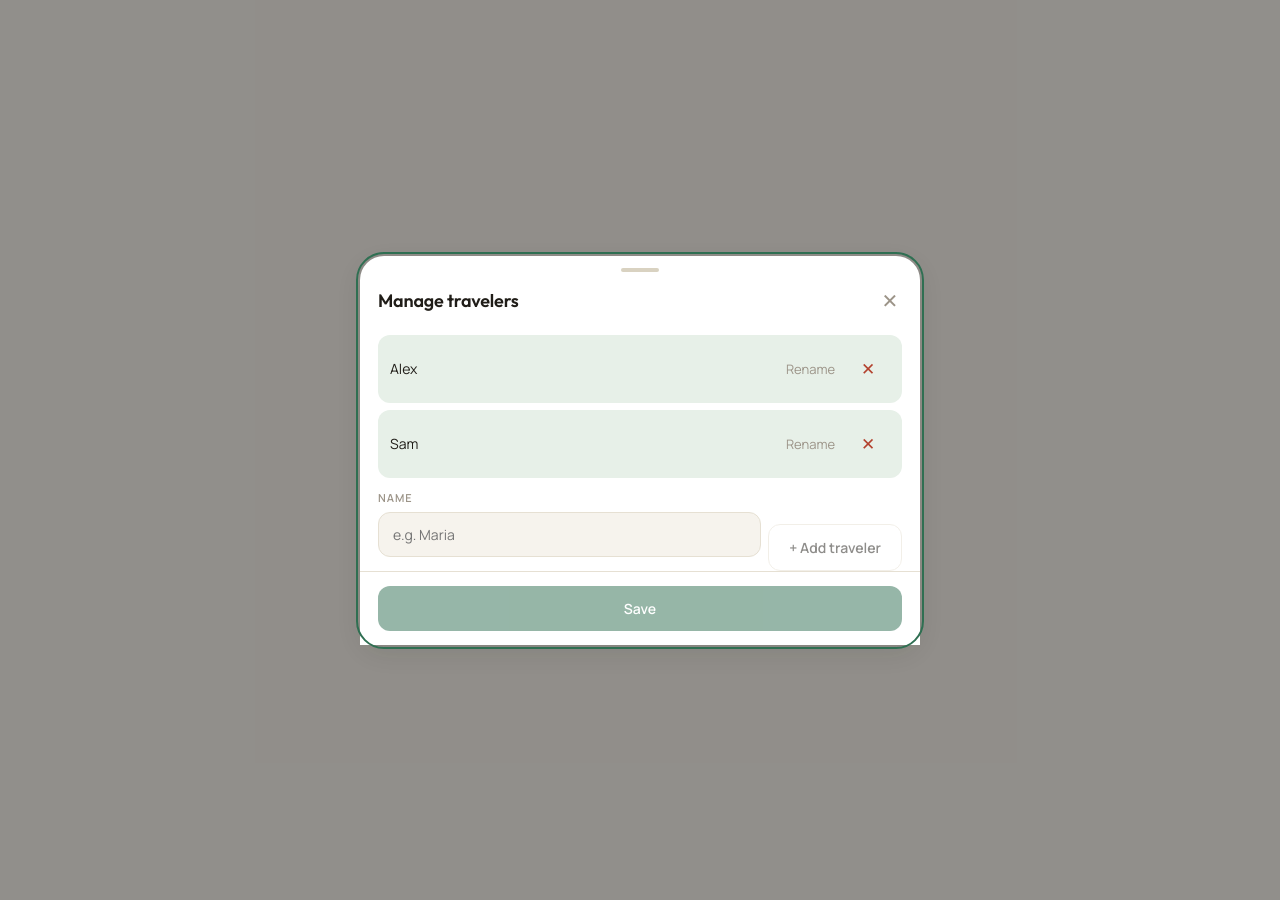
Scenario: ManageTravelersSheet › a newly added (unsaved) traveler can be removed instantly, no confirmation needed
Type "Maria" into the field labelled "Name" at (570, 534), box [378,512,761,556]
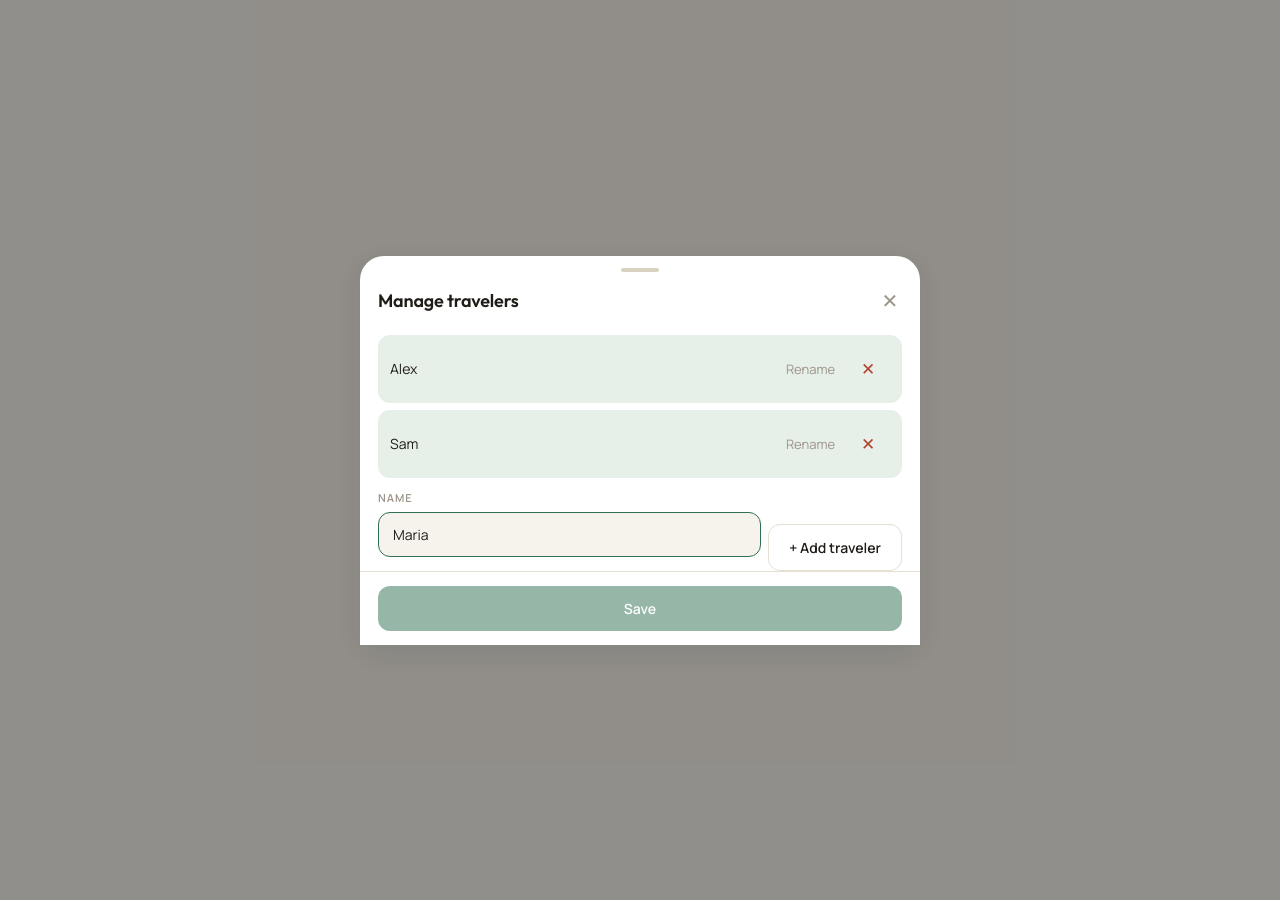
Click the button "+ Add traveler" at (835, 547), box [768,524,902,570]
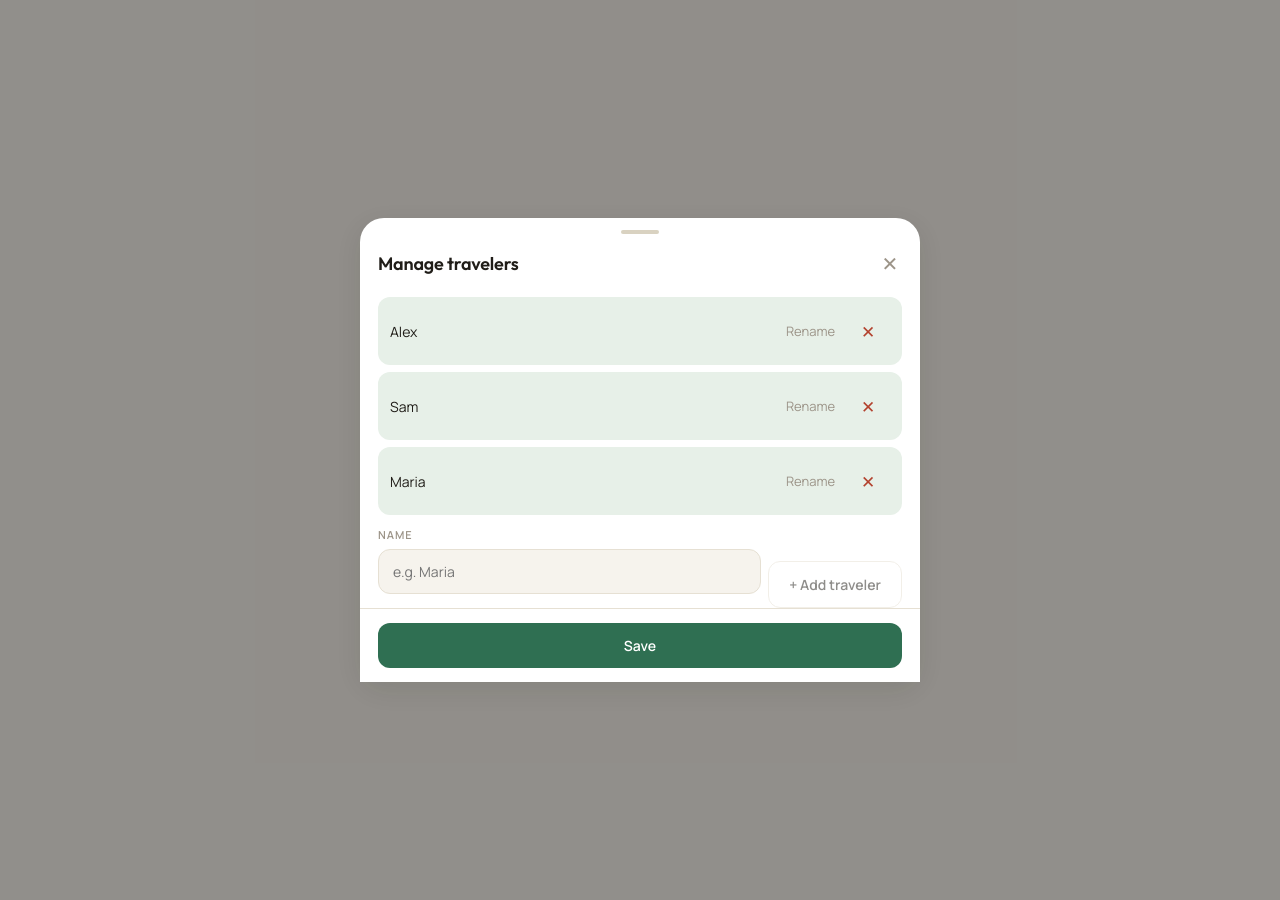
Click the button named "Remove Maria" at (868, 481), box [846,459,890,503]
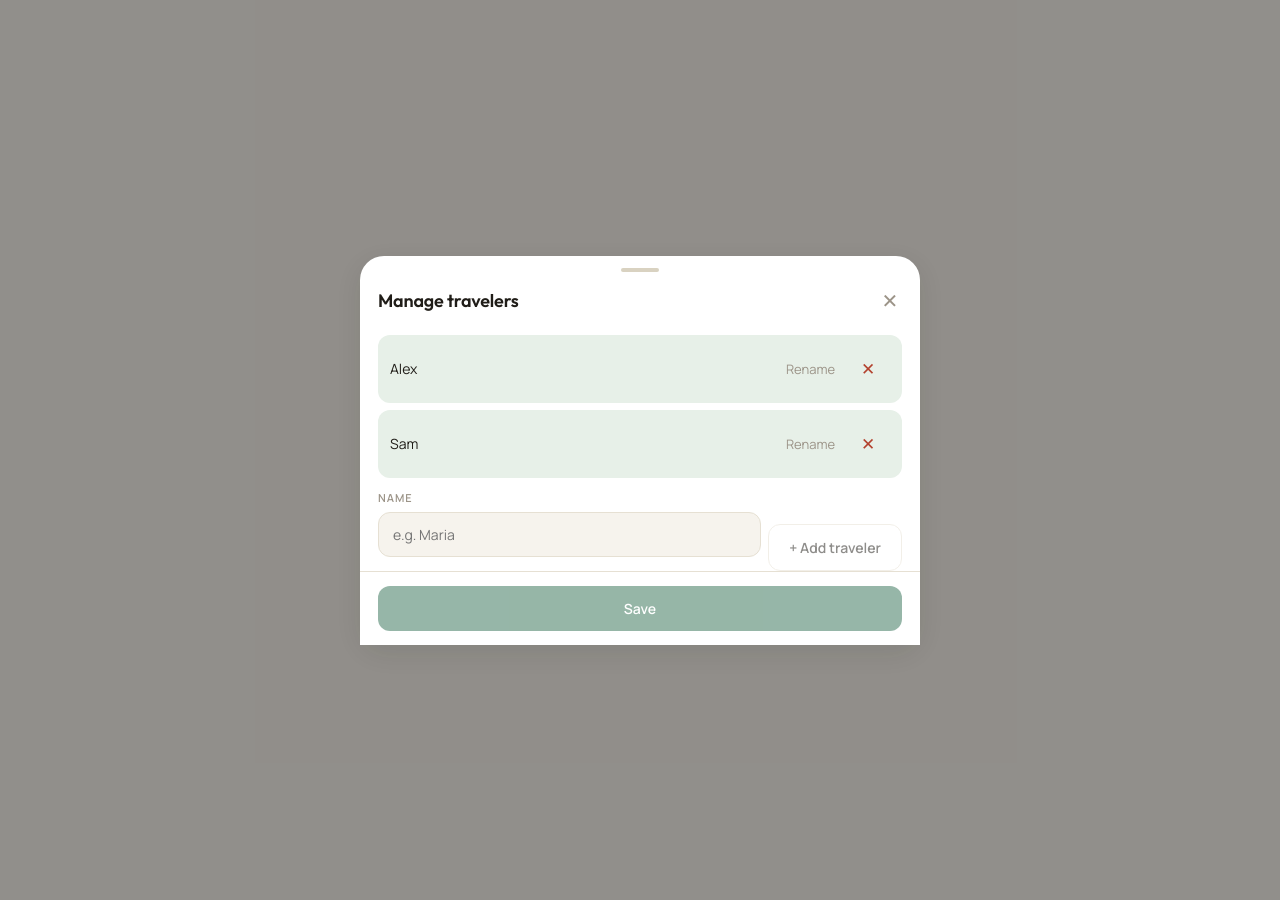
Check: the button "Save" is disabled, box [378,586,902,630]
